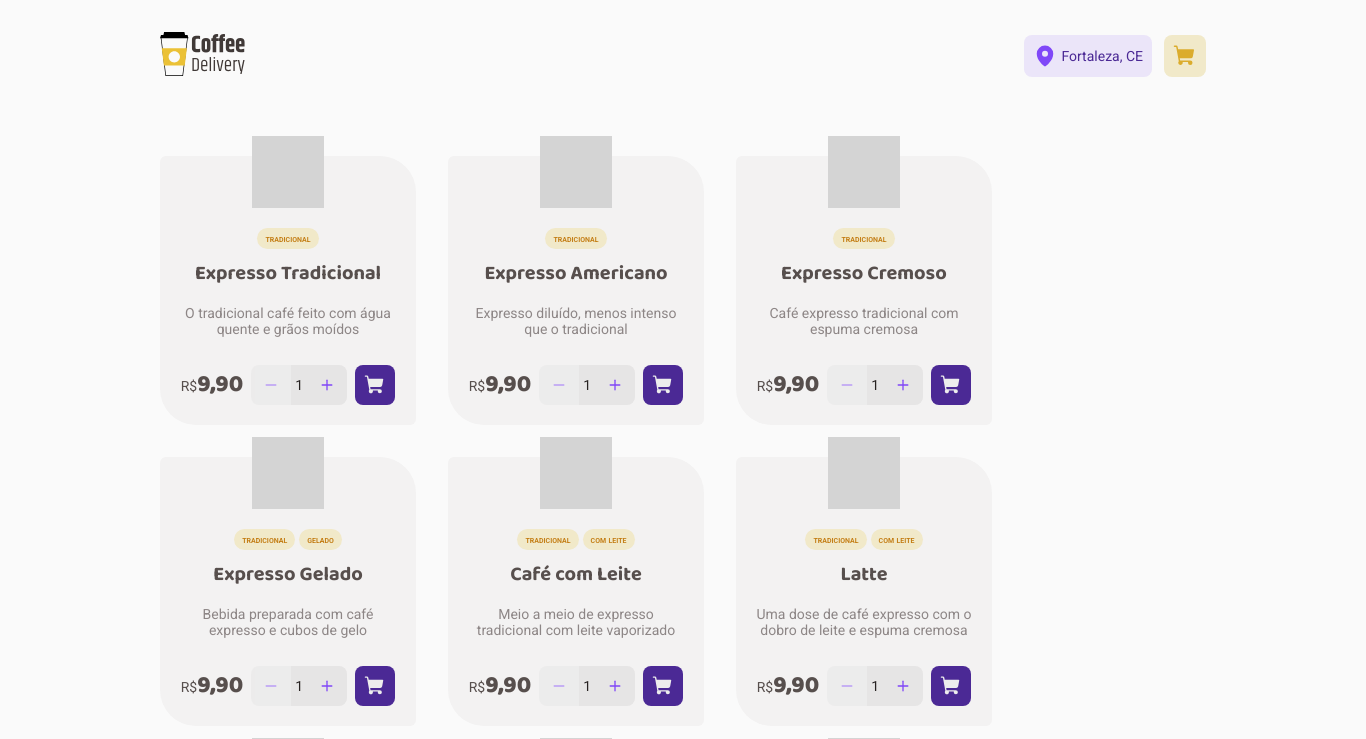
App Component Integration › should be able to +1 item when plus button is clicked
(page scrolled)
Expected: the 1st text with test id "amount" reads "1", [295, 377, 303, 393]
Click the 1st button with test id "plus-btn" at (327, 385), box [307, 365, 347, 405]
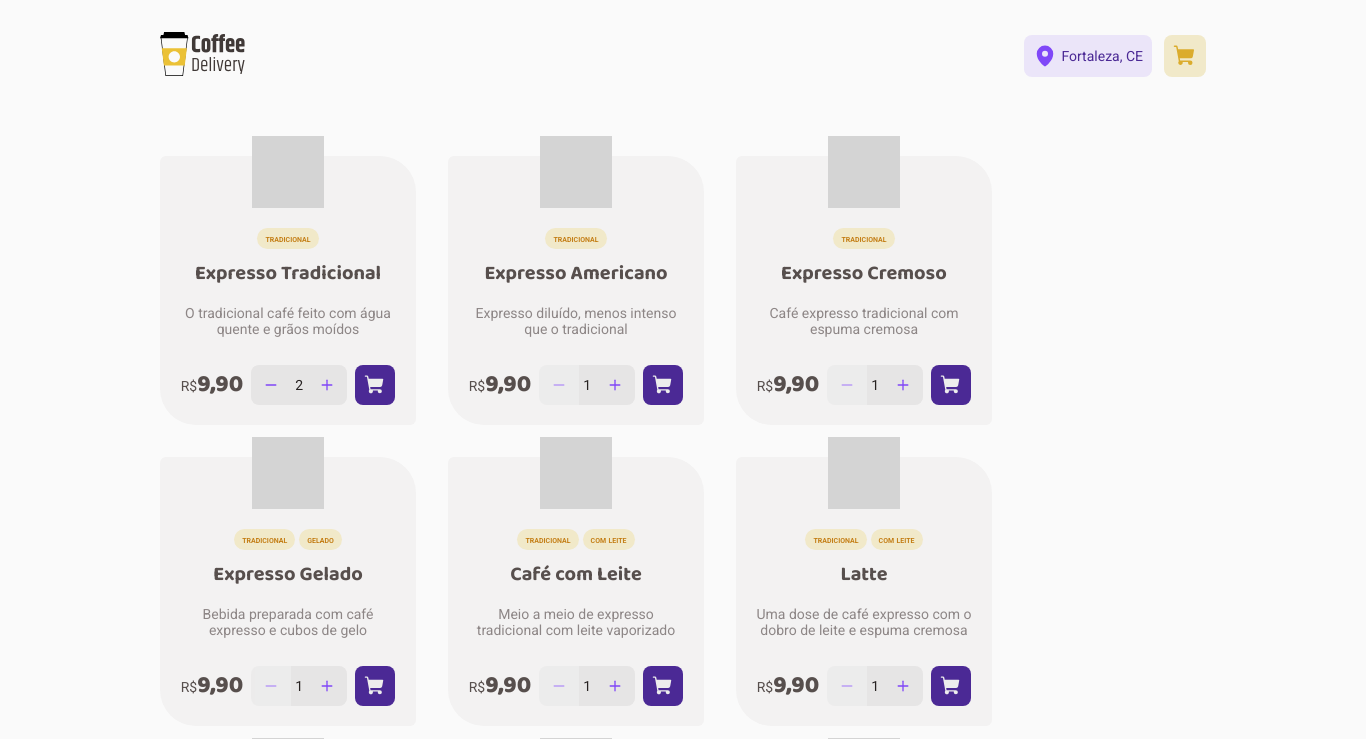
Now the text with test id "amount" reads "2", box [295, 377, 303, 393]
